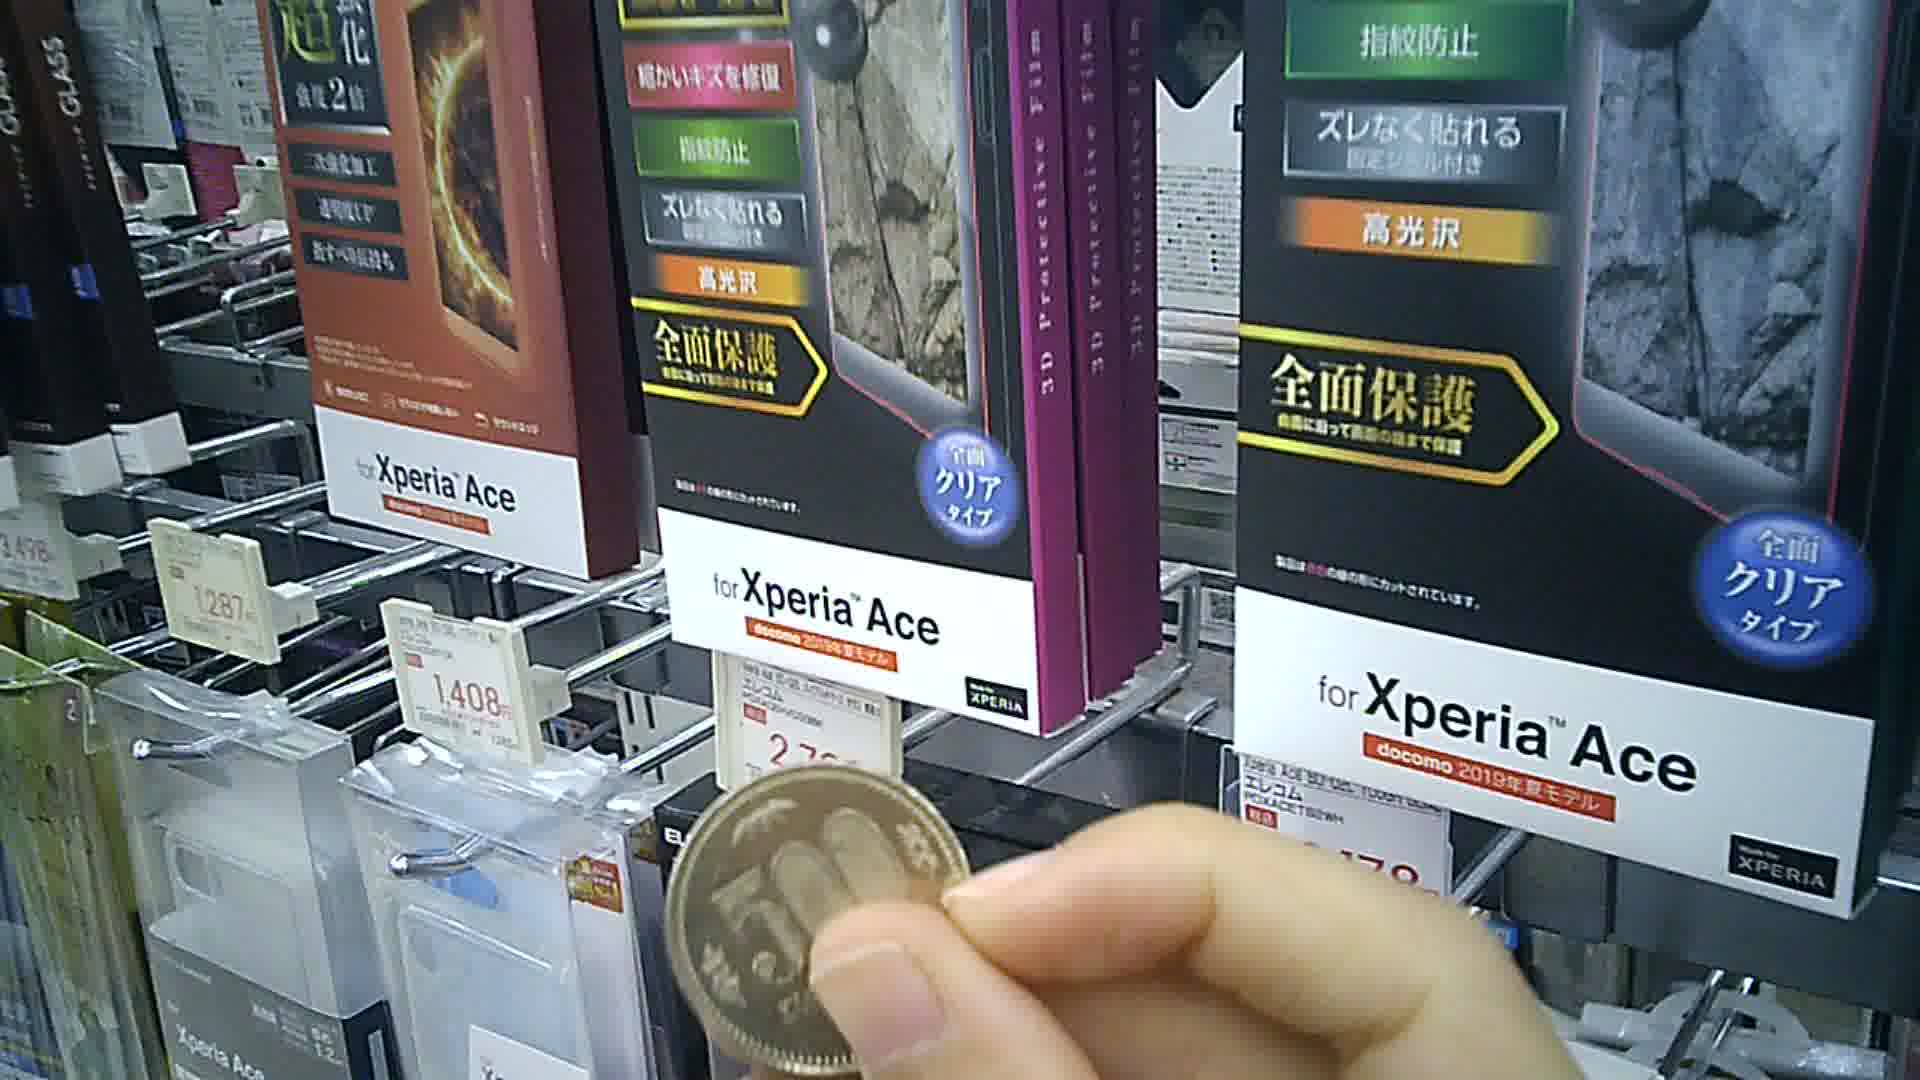500 Yen: (662, 766, 984, 1079)
